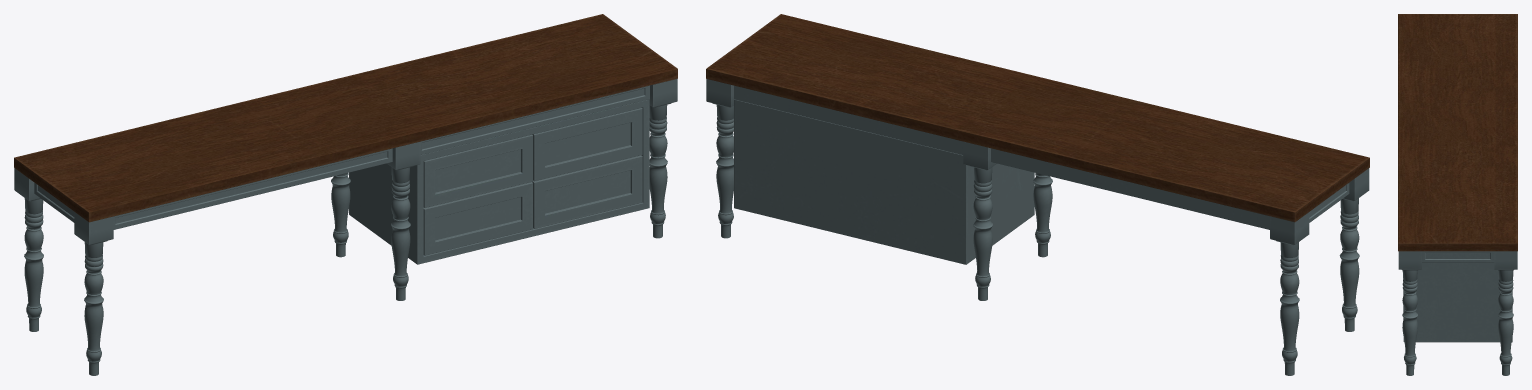
Rendered from support-dining-table-4b8427fd.glb.
3 renders of one model, left to right at view 1: azimuth 30°, elevation 25°; view 2: azimuth 150°, elevation 25°; view 3: azimuth 270°, elevation 25°, orthographic. The views are drawn at different scales.
Visible parts, largest first — view 1: DinningTable; view 2: DinningTable; view 3: DinningTable.
Boxes of the visible parts, left/top/right/bottom form: DinningTable: left=14, top=14, right=677, bottom=375; DinningTable: left=706, top=14, right=1369, bottom=375; DinningTable: left=1398, top=14, right=1517, bottom=375.
Size of the model in its own units: 2.72 by 0.7505 by 0.6.
1 material, 1 textured.
